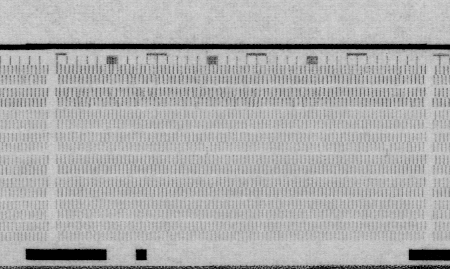Oblique printing: (381, 141, 393, 156)
